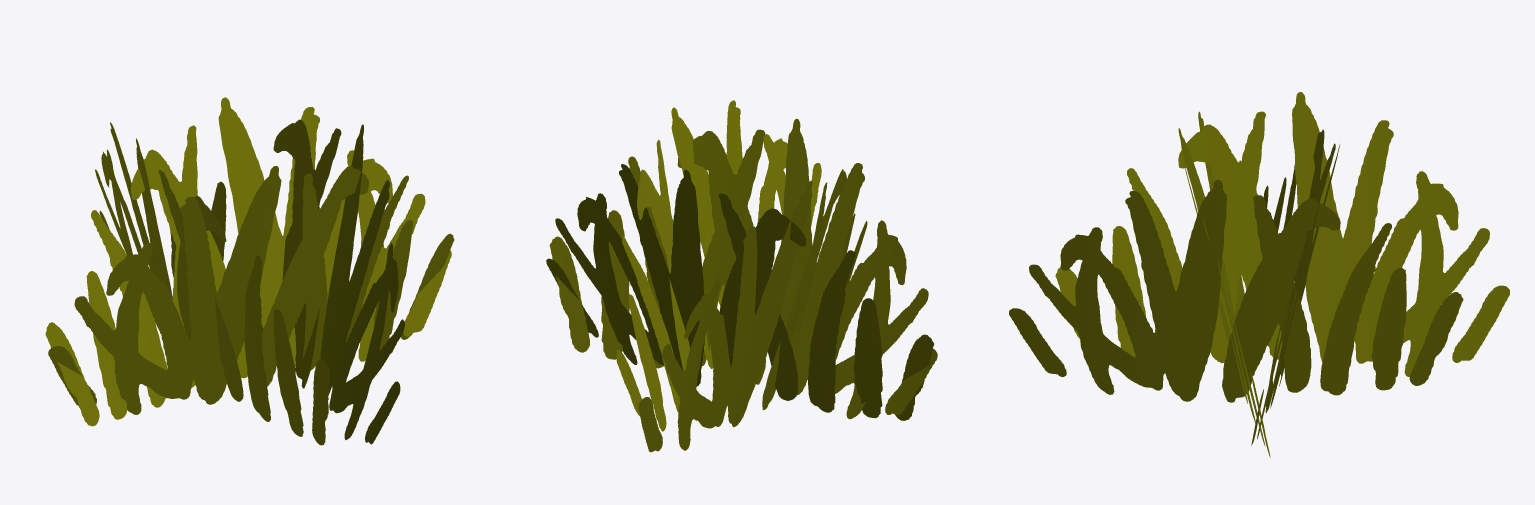
File: grass_C.fbx
3 renders of one model, left to right at view 1: azimuth 30°, elevation 25°; view 2: azimuth 150°, elevation 25°; view 3: azimuth 270°, elevation 25°, orthographic. The views are drawn at different scales.
Visible parts, largest first — view 1: grass_C; view 2: grass_C; view 3: grass_C.
Boxes of the visible parts, left/top/right/bottom form: grass_C: left=45, top=97, right=454, bottom=445; grass_C: left=546, top=100, right=937, bottom=452; grass_C: left=1009, top=92, right=1509, bottom=457.
Size of the model in its own units: 39.29 by 25.08 by 43.1.
